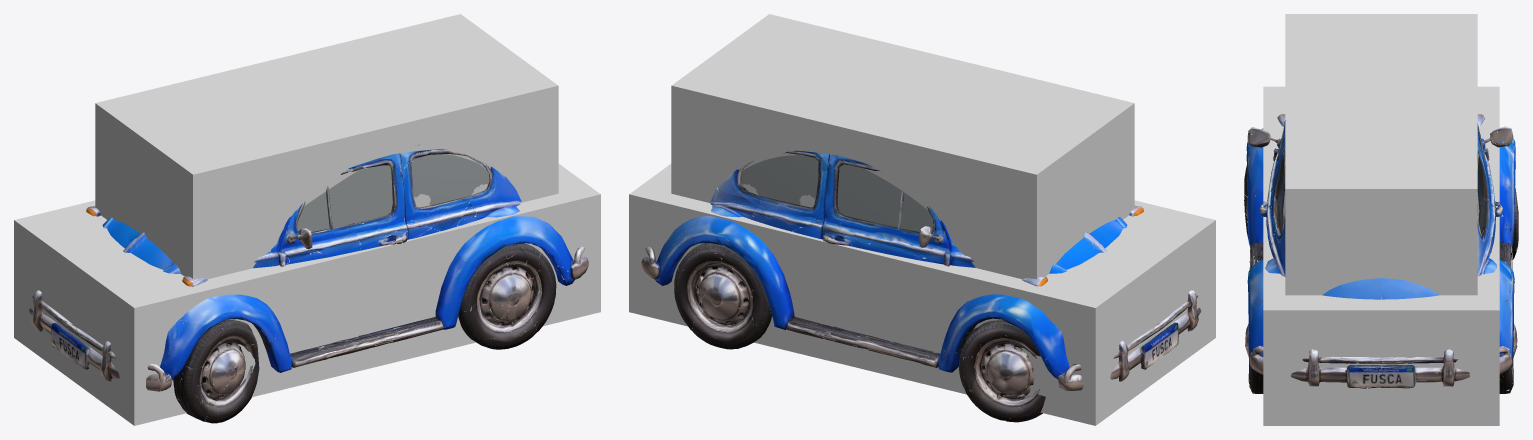
File: fusca.glb
3 renders of one model, left to right at view 1: azimuth 30°, elevation 25°; view 2: azimuth 150°, elevation 25°; view 3: azimuth 270°, elevation 25°, orthographic.
Parts seen in each view (by area): view 1: Col_fusca_2, Col_fusca_1, Car_fusca; view 2: Col_fusca_2, Col_fusca_1, Car_fusca; view 3: Col_fusca_2, Col_fusca_1, Car_fusca.
Boxes of the visible parts, x1,y1,x2,y2 form: Col_fusca_2: (95, 14, 558, 279); Col_fusca_1: (14, 164, 600, 425); Car_fusca: (29, 145, 588, 423); Col_fusca_2: (671, 14, 1134, 279); Col_fusca_1: (629, 164, 1215, 425); Car_fusca: (641, 150, 1201, 422); Col_fusca_2: (1285, 14, 1477, 295); Col_fusca_1: (1263, 86, 1499, 425); Car_fusca: (1244, 114, 1518, 393).
Size of what is drawn, in the model's own units: 3.52 by 1.69 by 1.78.
Materials: 2 (1 with a texture image).
